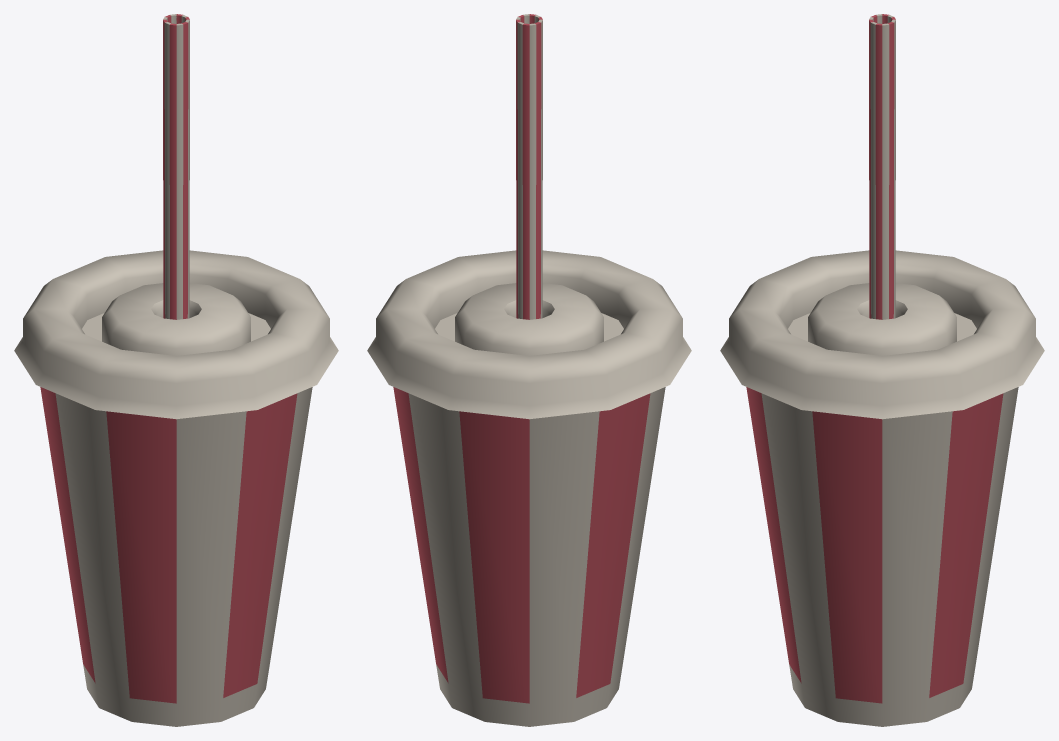
Rendered from Shake_02.fbx.
The picture shows the model from 3 angles, left to right: view 1: azimuth 30°, elevation 25°; view 2: azimuth 150°, elevation 25°; view 3: azimuth 270°, elevation 25°; orthographic projection.
Parts seen in each view (by area): view 1: Shake_02; view 2: Shake_02; view 3: Shake_02.
Boxes of the visible parts, x1=… form: Shake_02: x1=14, y1=14, x2=338, y2=726; Shake_02: x1=367, y1=14, x2=691, y2=726; Shake_02: x1=720, y1=14, x2=1044, y2=726.
Size of the model in its own units: 0.1235 by 0.2809 by 0.1235.
